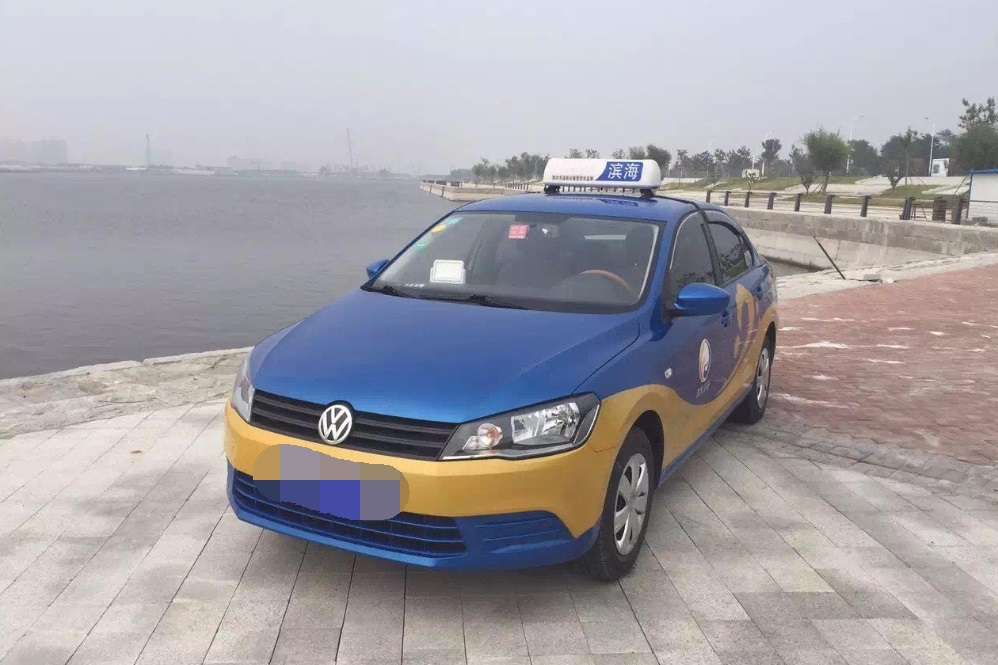taxi: (221, 155, 785, 587)
